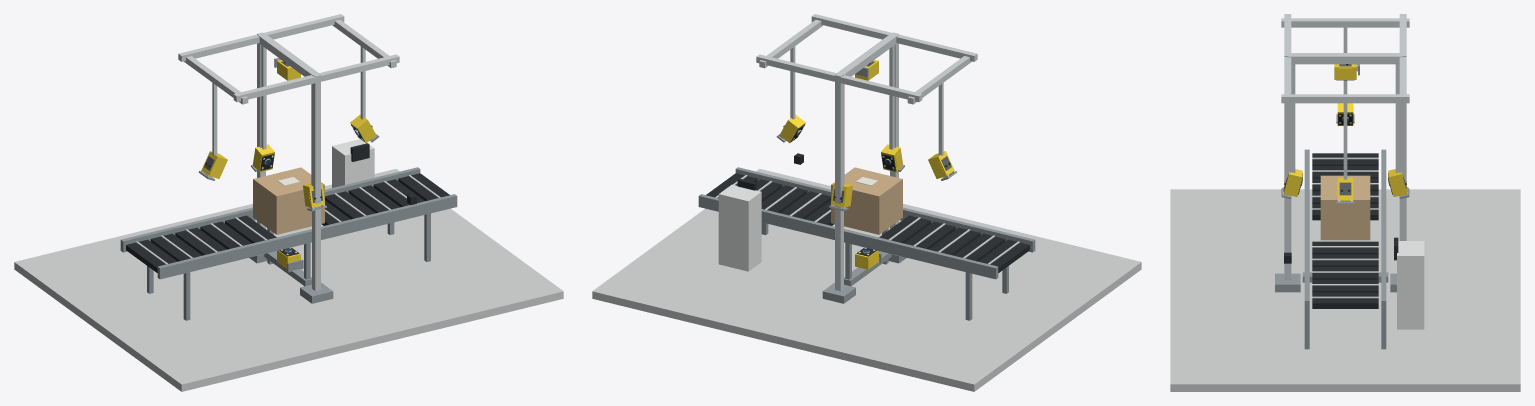
3 renders of one model, left to right at view 1: azimuth 30°, elevation 25°; view 2: azimuth 150°, elevation 25°; view 3: azimuth 270°, elevation 25°, orthographic. The views are drawn at different scales.
Visible parts, largest first — view 1: Floor, Conveyor side rail, Parcel, Extrusion upright, Conveyor side rail.001, Longitudinal top frame, Control cabinet, Longitudinal top frame.001, Overhead crossbeam, Cross-belt sorter carrier, Cross-belt sorter carrier.001, Cross-belt sorter carrier.007 (+10 smaller); view 2: Floor, Conveyor side rail.001, Control cabinet, Parcel, Extrusion upright.001, Conveyor side rail, Longitudinal top frame.001, Longitudinal top frame, Overhead crossbeam, Cross-belt sorter carrier, Cross-belt sorter carrier.001, Cross-belt sorter carrier.002 (+8 smaller); view 3: Floor, Parcel, Control cabinet, Overhead crossbeam, Extrusion upright, End-face sensor bracket, End-face sensor bracket.001, Cross-belt sorter carrier.009, Conveyor side rail, Conveyor side rail.001, Extrusion upright.001, Cross-belt sorter carrier.005 (+12 smaller).
Boxes of the visible parts, x1,y1,x2,y2 form: Floor: (14,169,563,391); Conveyor side rail: (157,194,457,279); Parcel: (253,167,324,234); Extrusion upright: (312,74,320,291); Conveyor side rail.001: (120,167,420,252); Longitudinal top frame: (233,54,399,102); Control cabinet: (332,139,374,187); Longitudinal top frame.001: (178,14,344,61); Overhead crossbeam: (258,33,319,76); Cross-belt sorter carrier: (126,239,177,272); Cross-belt sorter carrier.001: (150,233,201,261); Cross-belt sorter carrier.007: (348,185,400,213); Floor: (592,169,1141,391); Conveyor side rail.001: (698,194,998,279); Control cabinet: (718,184,761,271); Parcel: (831,167,902,234); Extrusion upright.001: (835,74,843,291); Conveyor side rail: (735,167,1035,252); Longitudinal top frame.001: (756,54,922,102); Longitudinal top frame: (811,14,977,61); Overhead crossbeam: (836,33,897,76); Cross-belt sorter carrier: (978,239,1029,272); Cross-belt sorter carrier.001: (954,233,1005,261); Cross-belt sorter carrier.002: (929,227,980,255); Floor: (1170,189,1520,391); Parcel: (1320,175,1370,240); Control cabinet: (1397,241,1424,329); Overhead crossbeam: (1288,53,1402,64); Extrusion upright: (1284,53,1291,280); End-face sensor bracket: (1281,18,1409,27); End-face sensor bracket.001: (1281,94,1409,103); Cross-belt sorter carrier.009: (1312,292,1378,308); Conveyor side rail: (1304,149,1309,312); Conveyor side rail.001: (1381,149,1386,312); Extrusion upright.001: (1399,53,1406,240); Cross-belt sorter carrier.005: (1312,241,1378,254).
Bounding box in the file's own units: 5.4 × 3.1 × 4.1.
